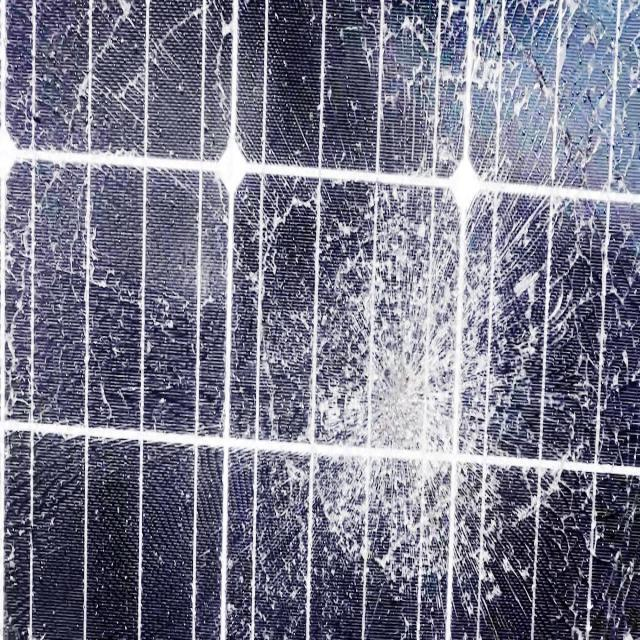faulty: (1, 5, 640, 638)
